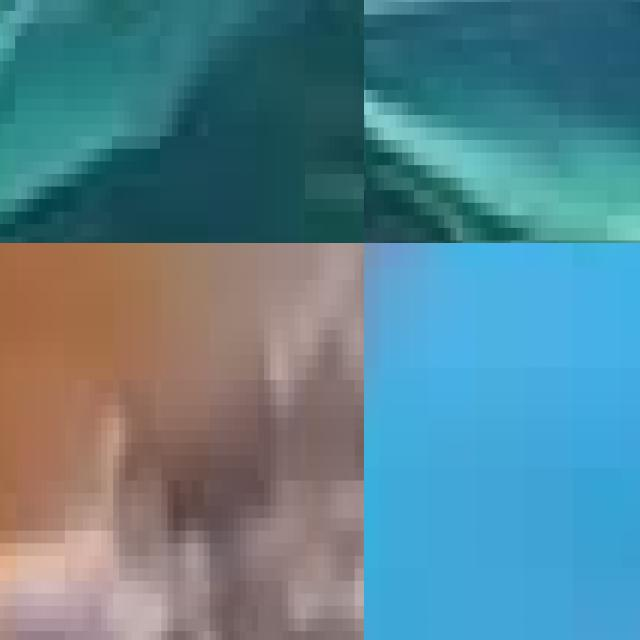fish: (364, 243, 640, 581), (0, 0, 364, 243)
